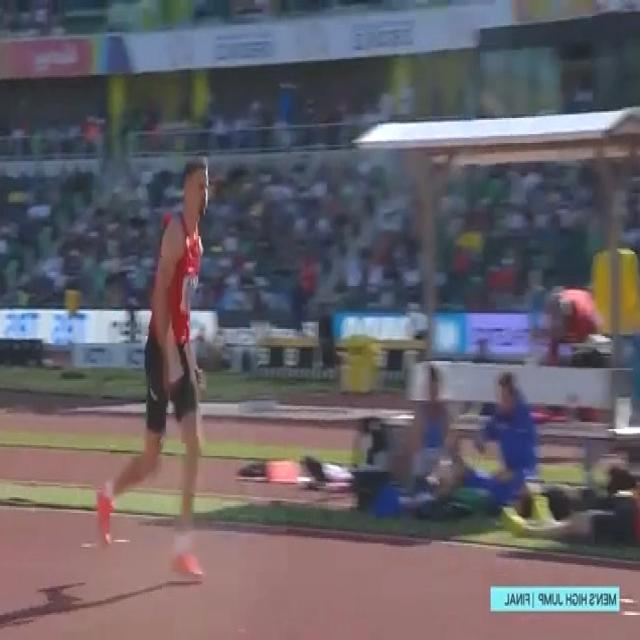run: (93, 158, 221, 593)
